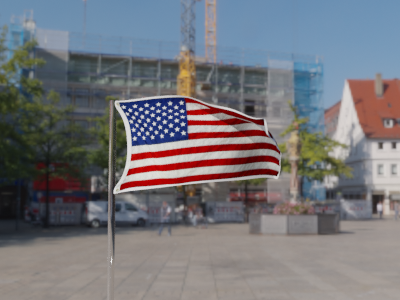America flag: (114, 96, 284, 194)
